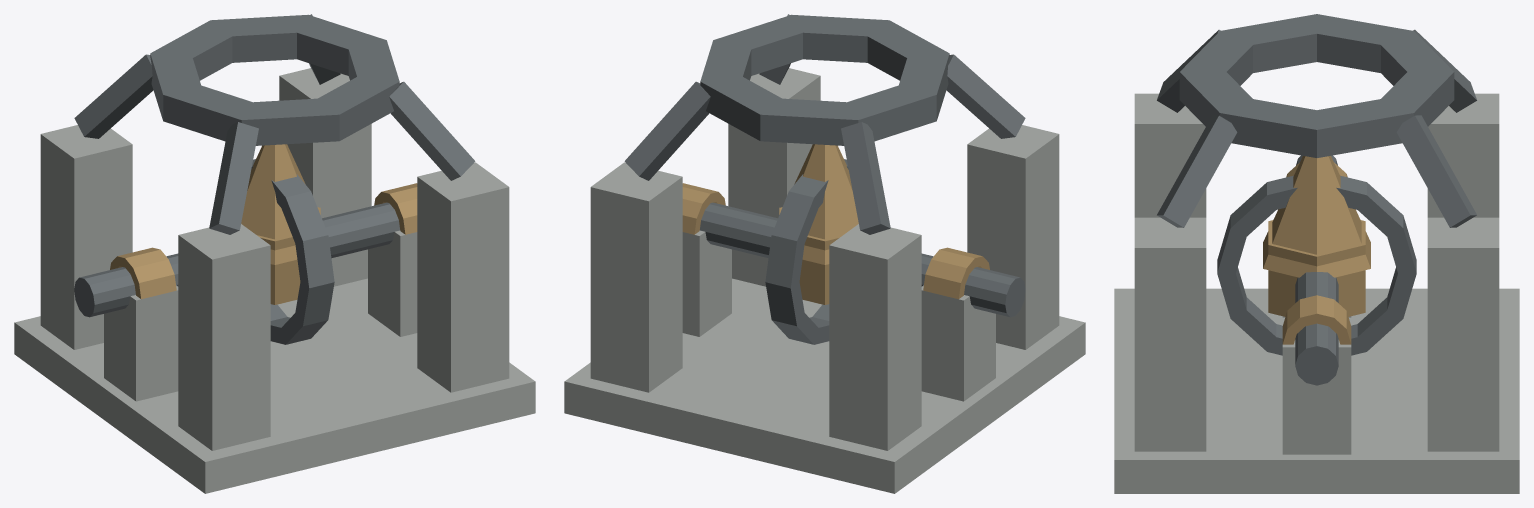
The model's file is vf_eitr_motor.glb.
The picture shows the model from 3 angles, left to right: view 1: azimuth 30°, elevation 25°; view 2: azimuth 150°, elevation 25°; view 3: azimuth 270°, elevation 25°; orthographic projection. The views are drawn at different scales.
Visible parts, largest first — view 1: Static_Stone, Static_Iron, Rotor_Iron, Static_Bronze; view 2: Static_Stone, Static_Iron, Rotor_Iron, Static_Bronze; view 3: Static_Stone, Static_Iron, Rotor_Iron, Static_Bronze.
Part boxes in pixels (left/top/right/bottom): Static_Stone: left=14, top=68, right=535, bottom=493; Static_Iron: left=74, top=14, right=475, bottom=234; Rotor_Iron: left=74, top=159, right=399, bottom=344; Static_Bronze: left=110, top=144, right=417, bottom=304; Static_Stone: left=564, top=68, right=1085, bottom=493; Static_Iron: left=624, top=14, right=1025, bottom=234; Rotor_Iron: left=700, top=159, right=1025, bottom=344; Static_Bronze: left=682, top=144, right=989, bottom=304; Static_Stone: left=1114, top=93, right=1519, bottom=493; Static_Iron: left=1157, top=14, right=1476, bottom=227; Rotor_Iron: left=1217, top=155, right=1416, bottom=385; Static_Bronze: left=1263, top=156, right=1370, bottom=344.
Size of the model in its own units: 1.5 by 1.19 by 1.3.
